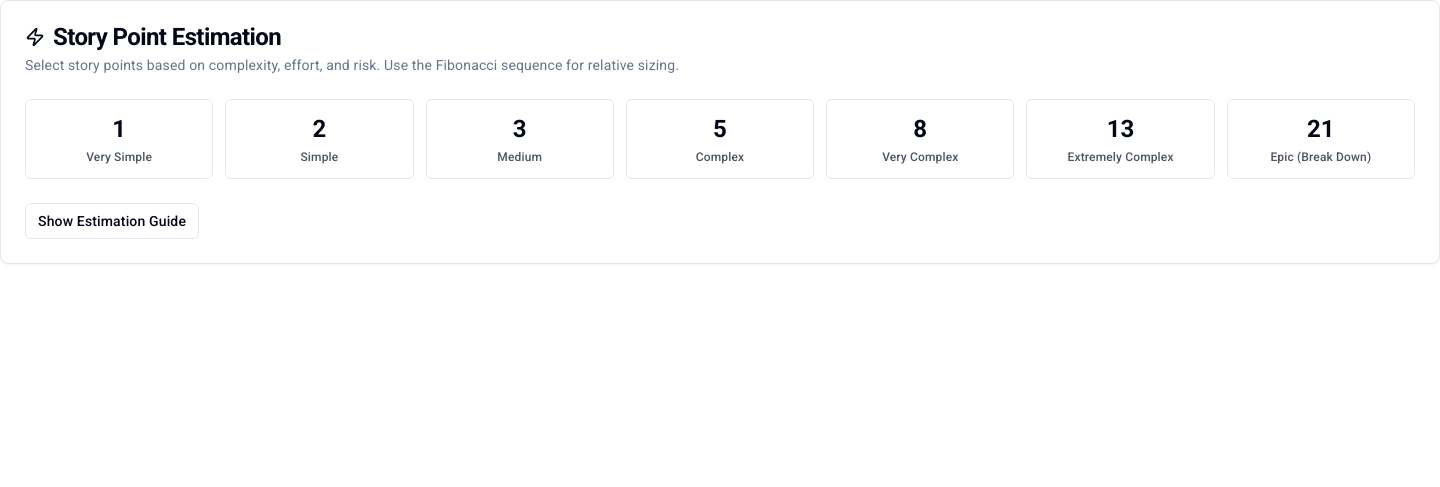
Scenario: StoryPointEstimator › shows guidance for selected point
Click the button "8 Very Complex".
click(920, 139)  # box [826,99,1014,179]
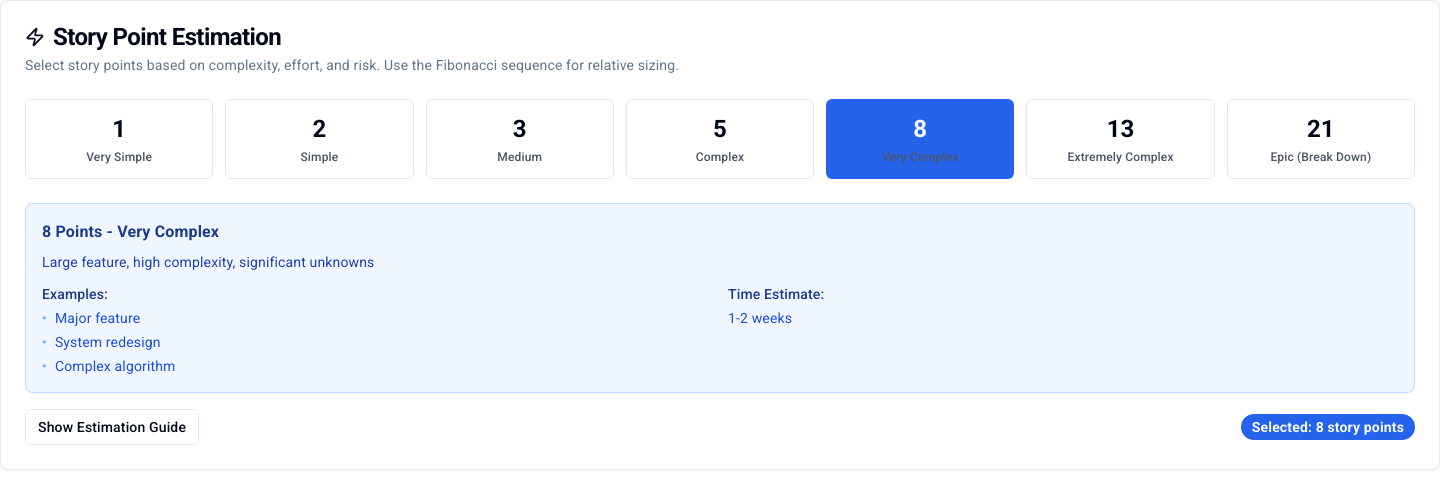
Now the heading "8 Points - Very Complex" is shown, box [42,222,219,241]
Now the text "Large feature, high complexity, significant unknowns" is shown, box [42,254,374,270]
Now the text "1-2 weeks" is shown, box [728,310,792,326]
